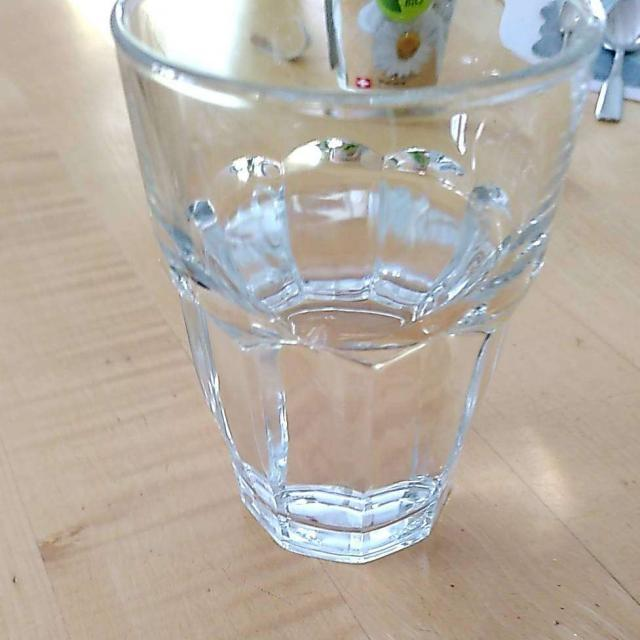water: (142, 4, 570, 490)
